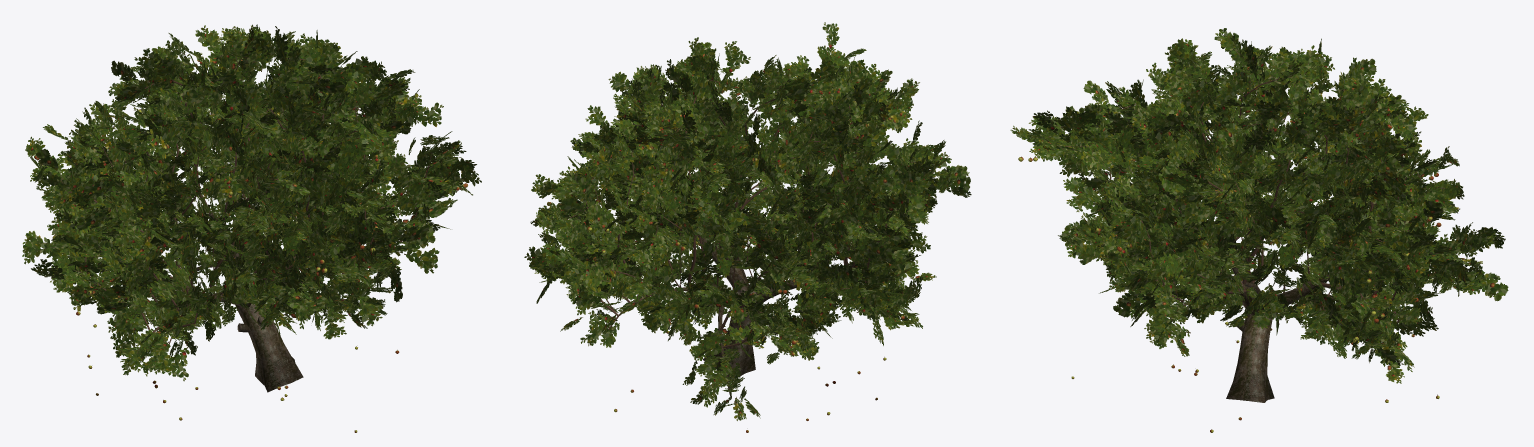
Rendered from jablon_3.glb.
The picture shows the model from 3 angles, left to right: view 1: azimuth 30°, elevation 25°; view 2: azimuth 150°, elevation 25°; view 3: azimuth 270°, elevation 25°; orthographic projection. The views are drawn at different scales.
Visible parts, largest first — view 1: jablon_3; view 2: jablon_3; view 3: jablon_3.
Part boxes in pixels (x1,y1,x2,y2): jablon_3: [22, 24, 481, 392]; jablon_3: [524, 22, 971, 420]; jablon_3: [1010, 28, 1508, 402].
Size of the model in its own units: 7.99 by 6.42 by 9.09.
5 materials, 5 textured.
